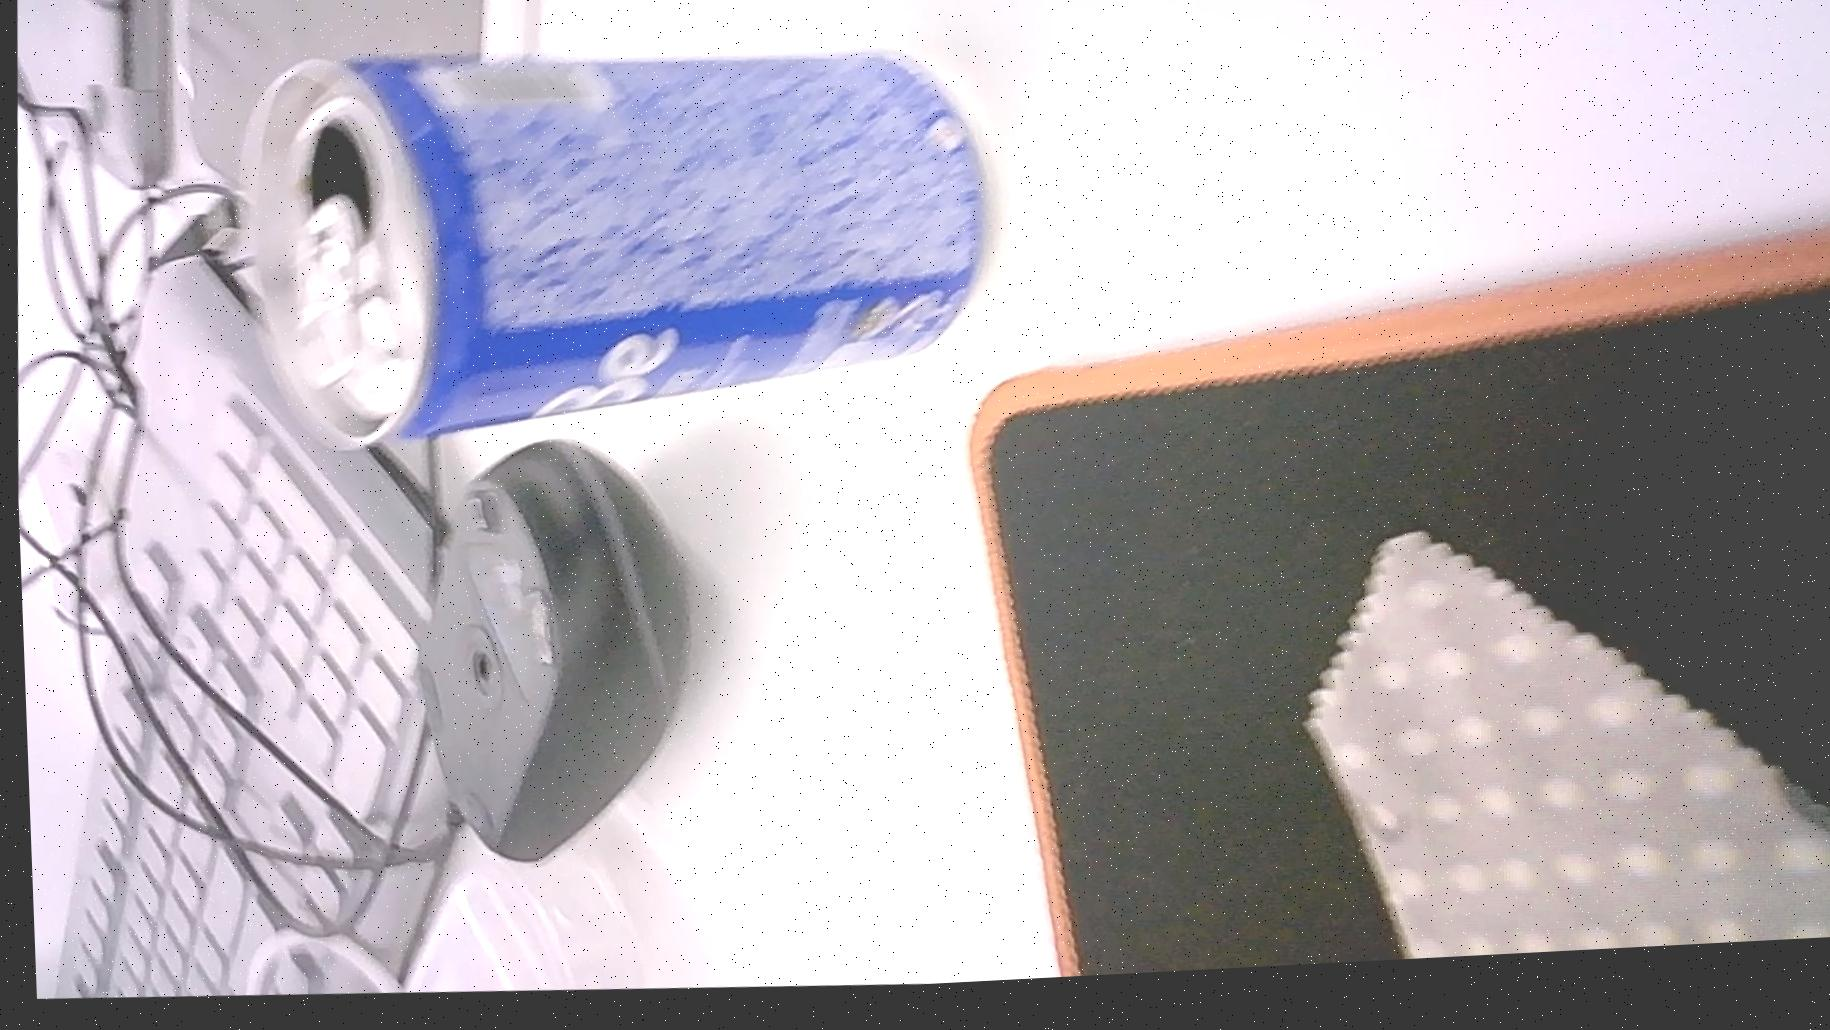letsbe: (230, 28, 999, 477)
